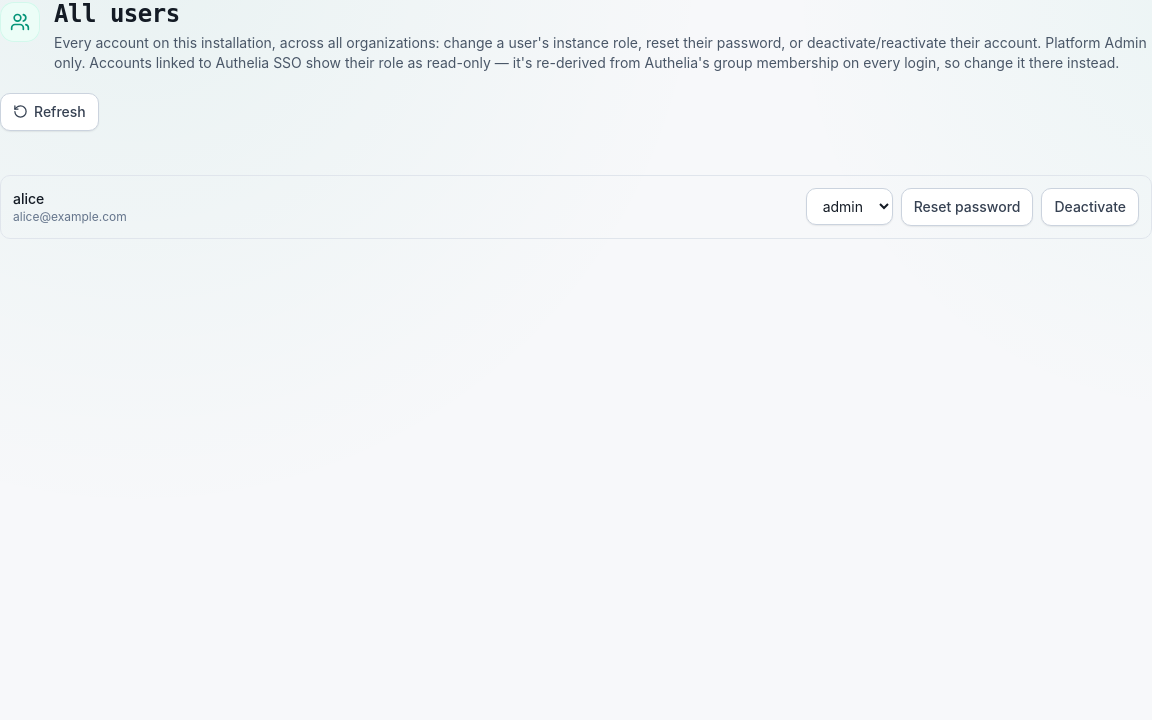
it: UsersPage › deactivate / reactivate › surfaces the last-admin 409 as a status message
Expected: the text "alice" is shown, x1=13 y1=190 x2=44 y2=207
Click the button "Deactivate": click(1090, 207) x1=1042 y1=188 x2=1139 y2=226
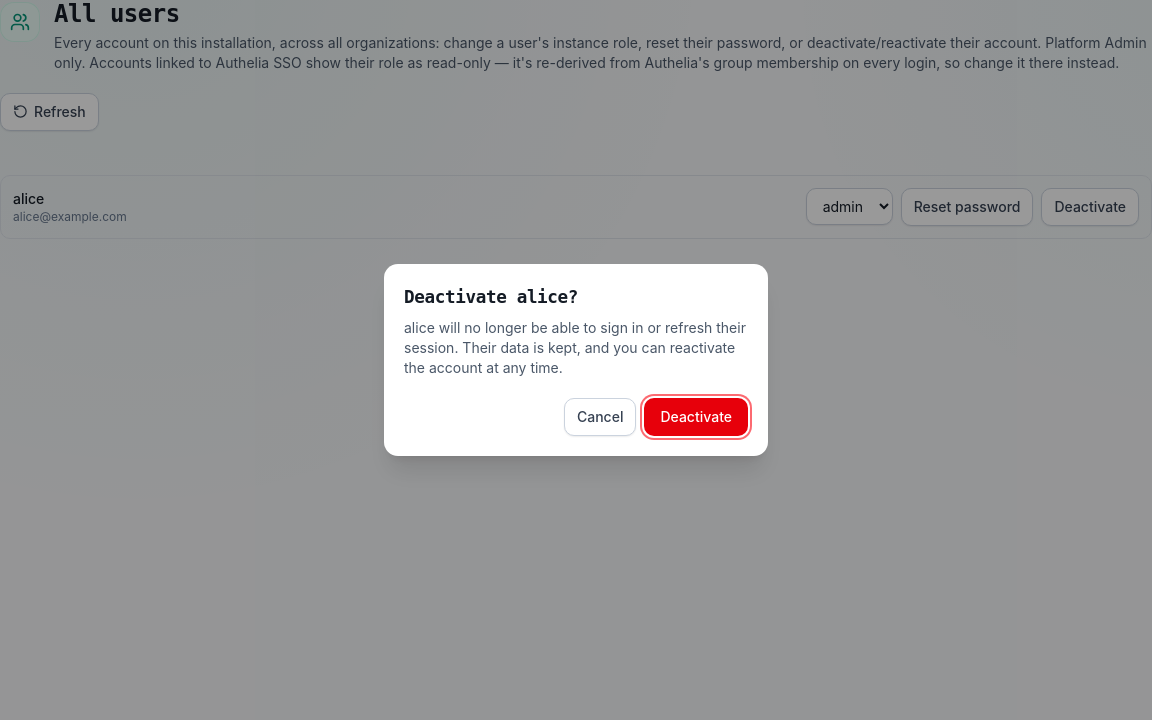
Click the button "Deactivate": click(696, 417) x1=644 y1=398 x2=748 y2=436
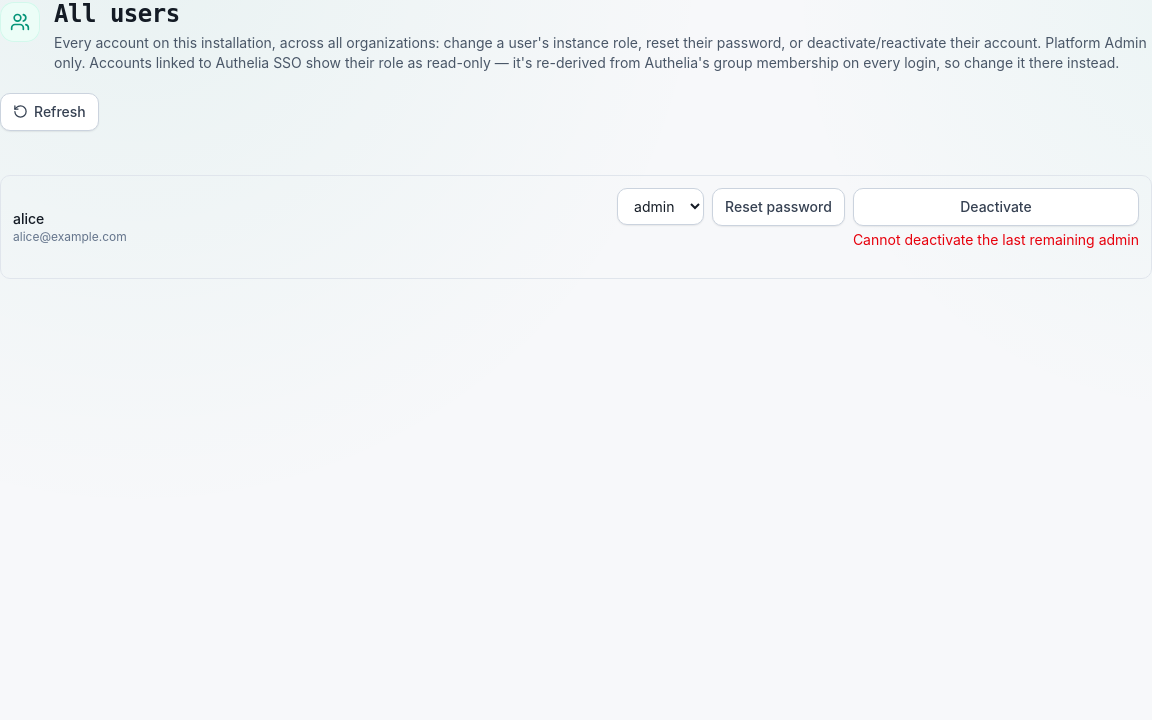
Expected: the text "Cannot deactivate the last remaining admin" is shown, x1=853 y1=230 x2=1139 y2=250
